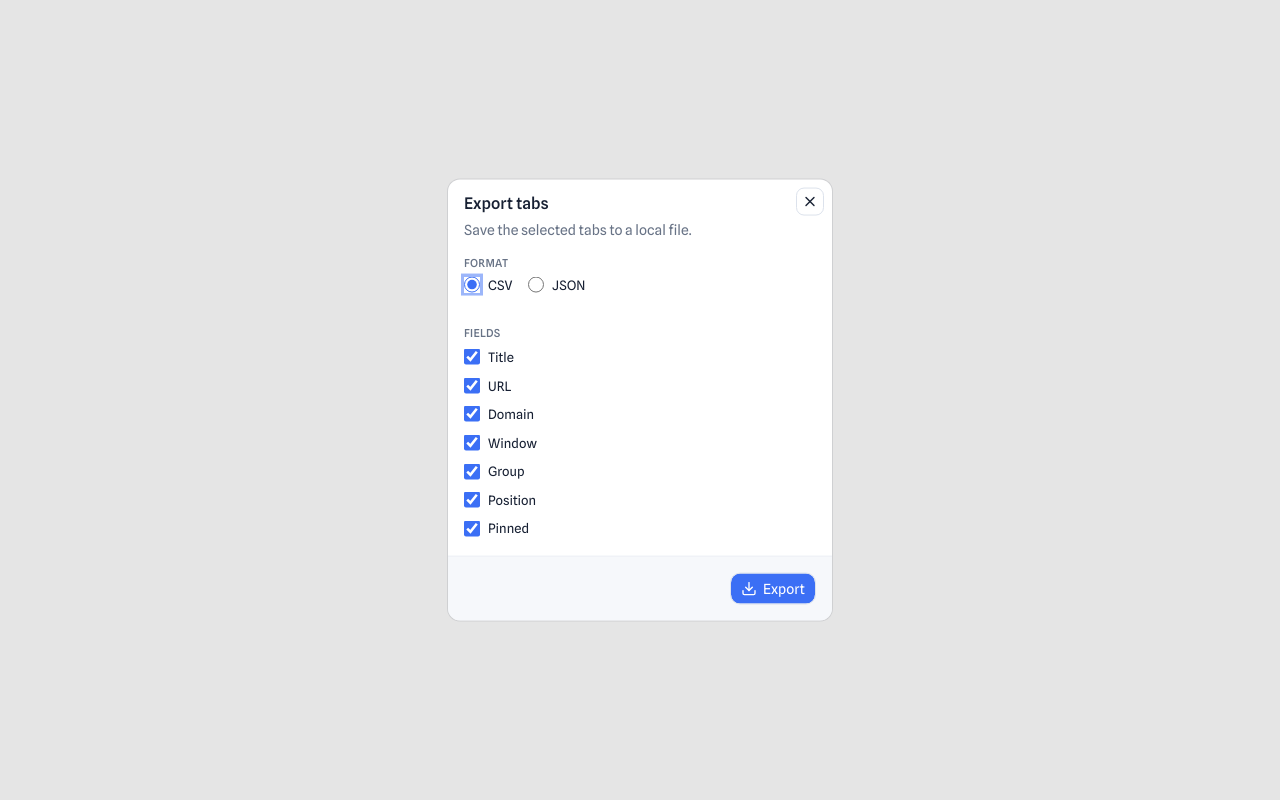
it: ExportDialog › keeps the dialog open and shows an error toast when the download gateway throws
Step 1. Click the button "Export" → (773, 588), box [730, 572, 816, 604]
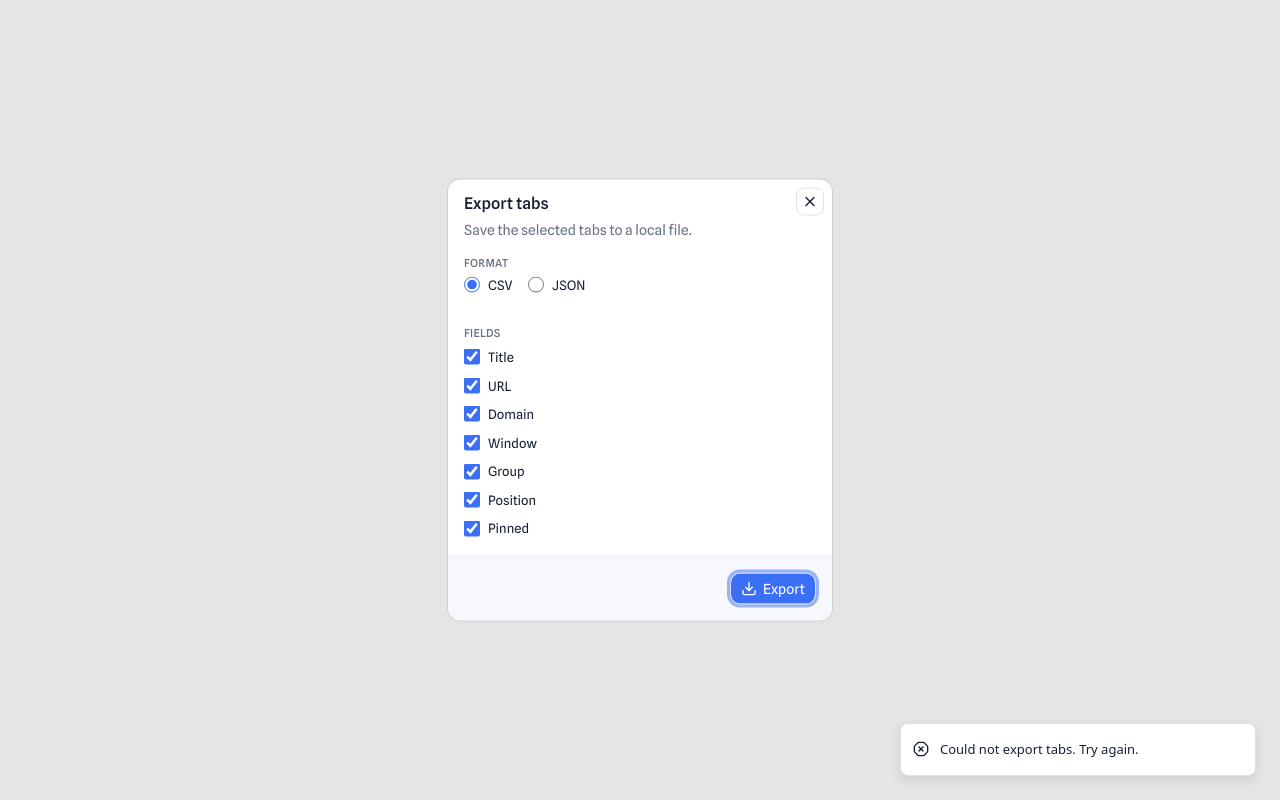
Check: the text "Could not export tabs. Try again." is shown, box [940, 740, 1139, 759]
